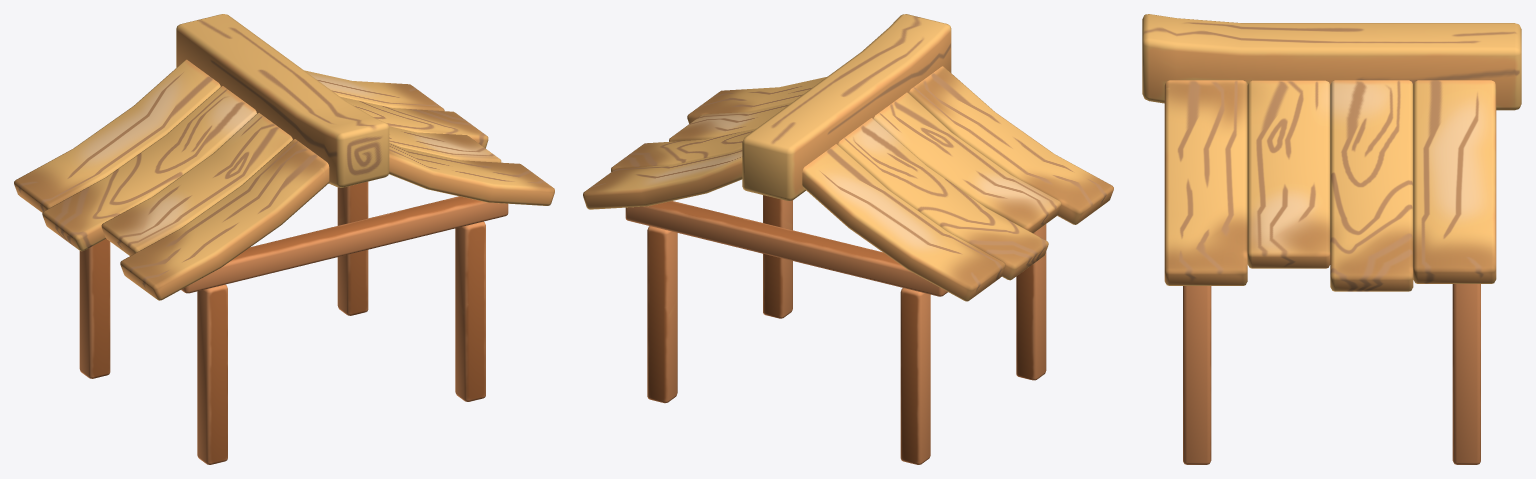
Rendered from shack big.fbx.
3 views of the same model, side by side, from view 1: azimuth 30°, elevation 25°; view 2: azimuth 150°, elevation 25°; view 3: azimuth 270°, elevation 25° (orthographic). The views are drawn at different scales.
Parts seen in each view (by area): view 1: shack big; view 2: shack big; view 3: shack big.
Boxes of the visible parts, x1,y1,x2,y2 form: shack big: (14,14,554,464); shack big: (583,14,1113,464); shack big: (1142,14,1521,464).
Size of the model in its own units: 619 by 452 by 429.
1 material, 1 textured.
